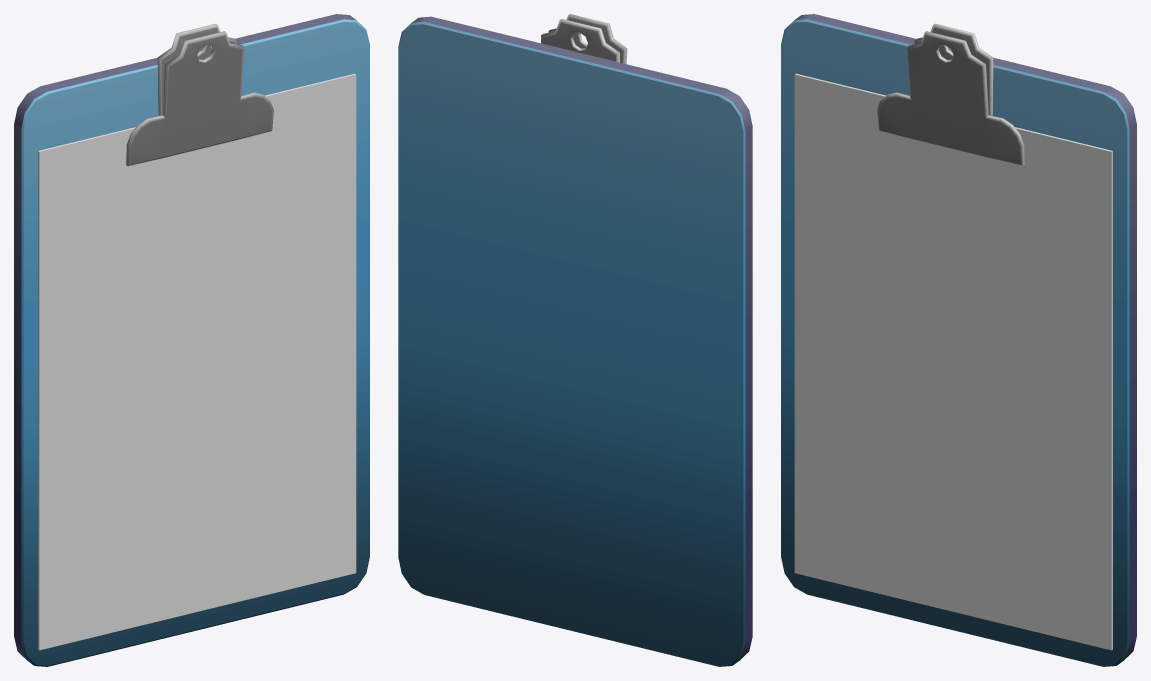
The model's file is SM_Clipboard.fbx.
3 views of the same model, side by side, from view 1: azimuth 30°, elevation 25°; view 2: azimuth 150°, elevation 25°; view 3: azimuth 330°, elevation 25° (orthographic).
Visible parts, largest first — view 1: Clipboard_SM; view 2: Clipboard_SM; view 3: Clipboard_SM.
Boxes of the visible parts, x1=… form: Clipboard_SM: x1=14, y1=14, x2=369, y2=666; Clipboard_SM: x1=398, y1=14, x2=752, y2=666; Clipboard_SM: x1=781, y1=14, x2=1136, y2=666.
Bounding box in the file's own units: 24.48 × 40.43 × 2.35.
Materials: 1 (1 with a texture image).
